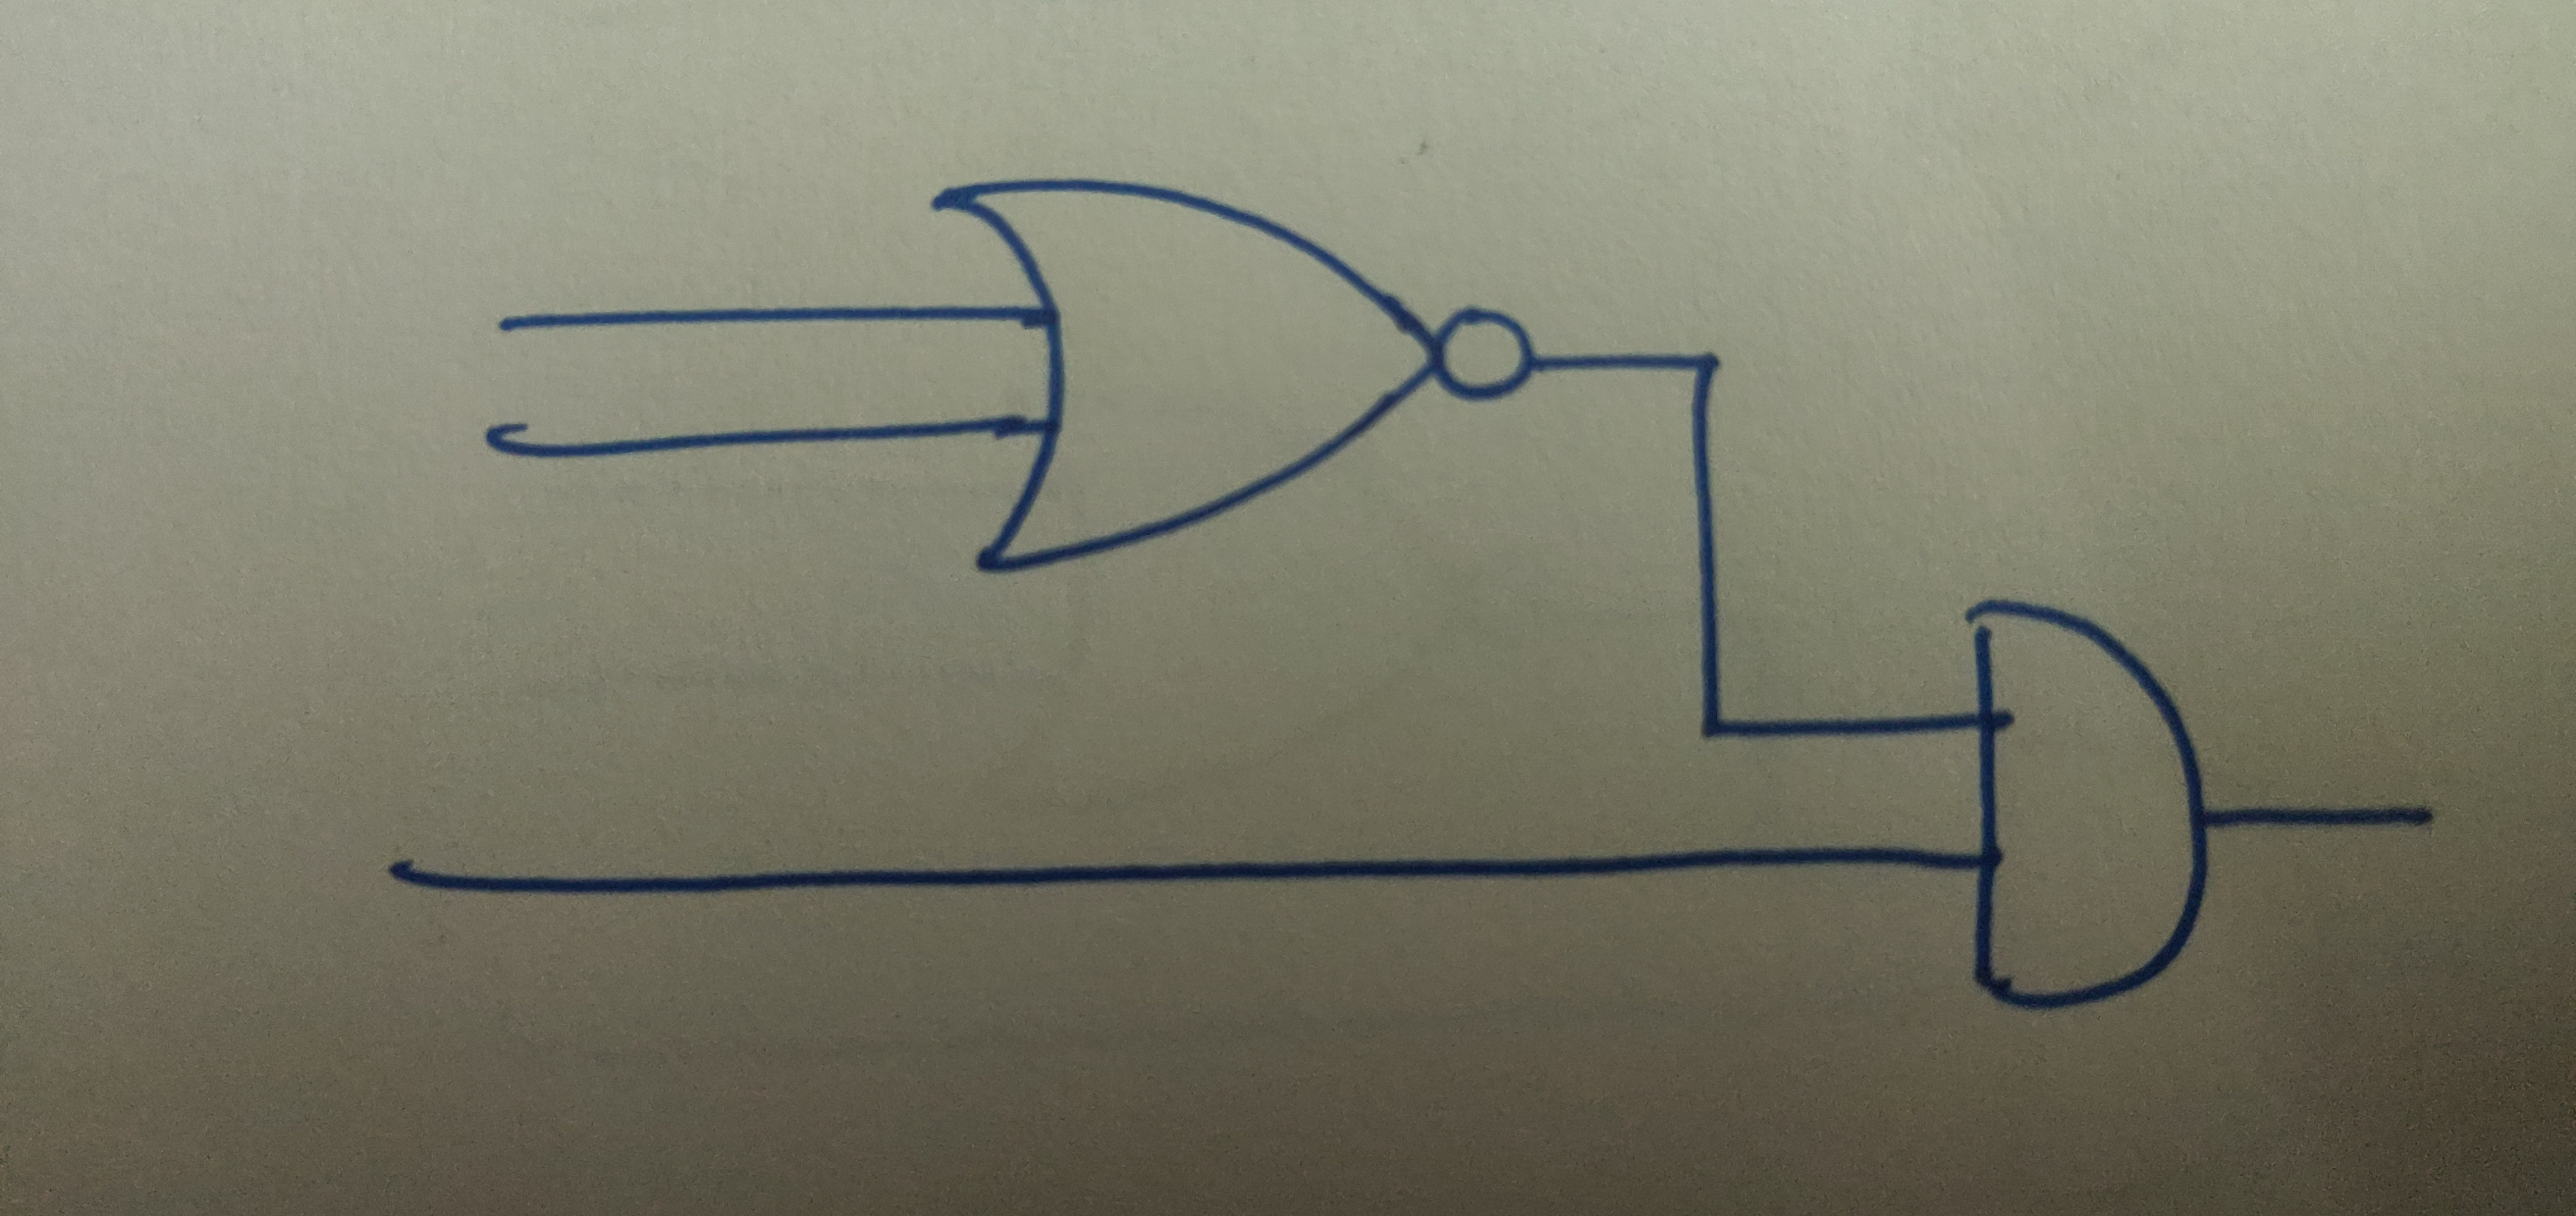and: (1962, 592, 2211, 1016)
not: (1433, 299, 1544, 411)
or: (927, 177, 1442, 575)
